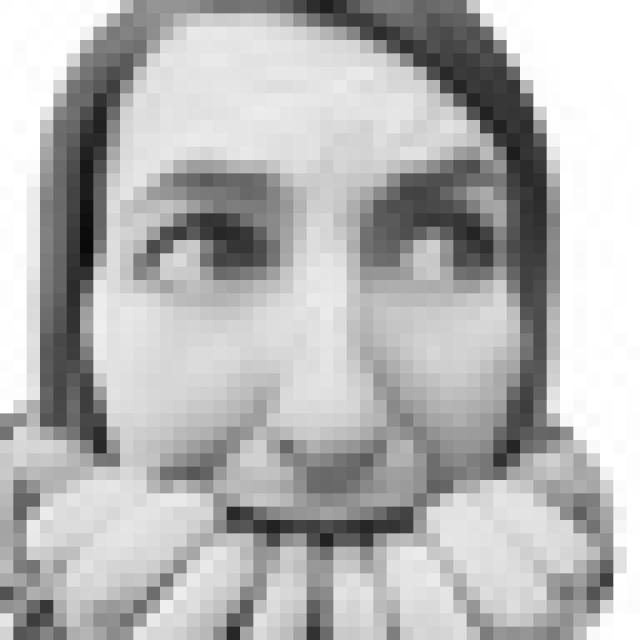fear: (131, 148, 510, 605)
